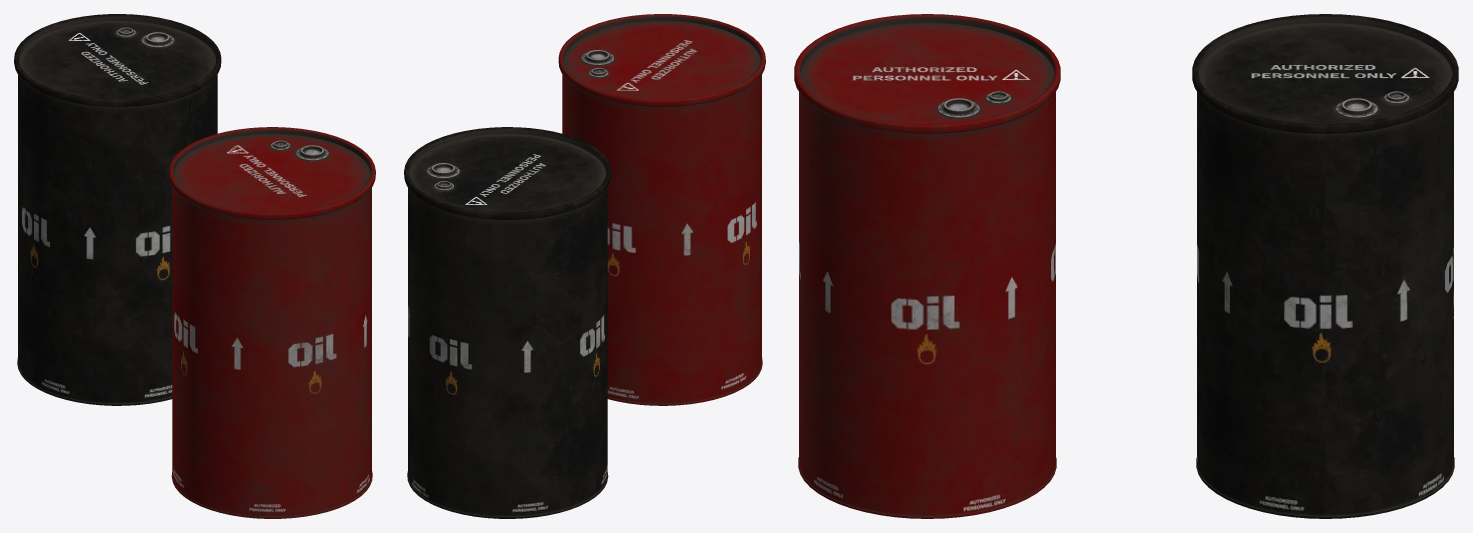
The model's file is oil_barrels.glb.
3 renders of one model, left to right at view 1: azimuth 30°, elevation 25°; view 2: azimuth 150°, elevation 25°; view 3: azimuth 270°, elevation 25°, orthographic. The views are drawn at different scales.
Visible parts, largest first — view 1: black_all_0; view 2: black_all_0; view 3: black_all_0.
Boxes of the visible parts, x1,y1,x2,y2 form: black_all_0: [14, 14, 375, 518]; black_all_0: [404, 14, 765, 518]; black_all_0: [794, 14, 1458, 518].
Size of the model in its own units: 0.5516 by 0.9 by 1.37.
Materials: 1 (1 with a texture image).
